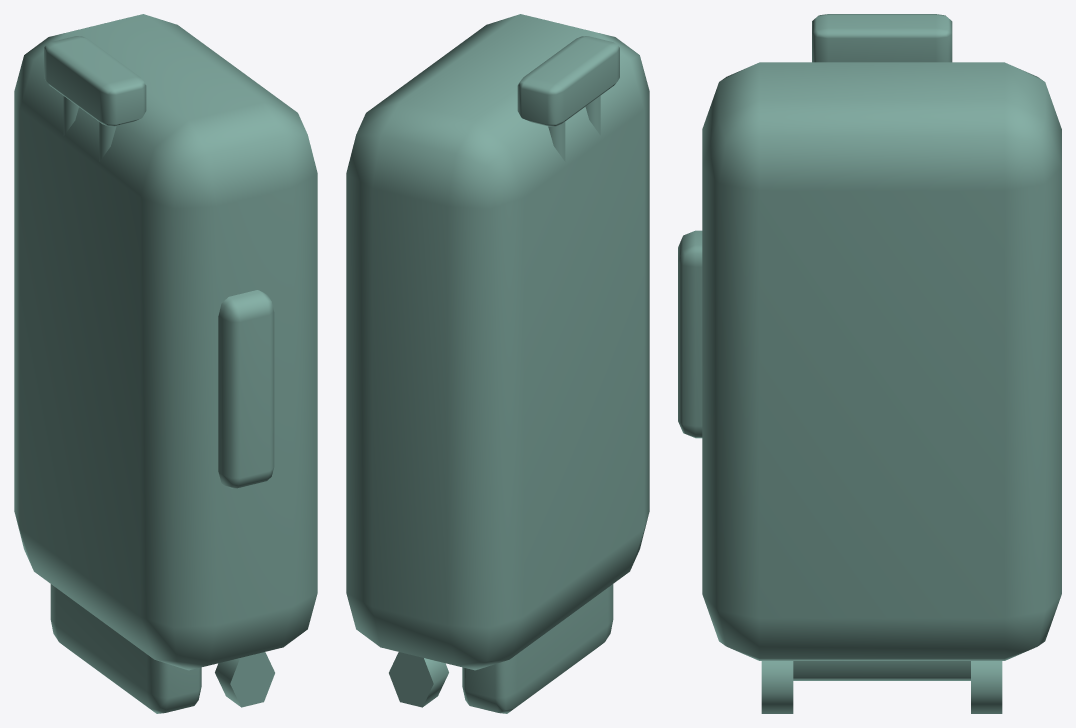
Rendered from ATLAS_PR_LUGGAGE_D.fbx.
3 renders of one model, left to right at view 1: azimuth 30°, elevation 25°; view 2: azimuth 150°, elevation 25°; view 3: azimuth 270°, elevation 25°, orthographic. The views are drawn at different scales.
Visible parts, largest first — view 1: PR_LUGGAGE_D; view 2: PR_LUGGAGE_D; view 3: PR_LUGGAGE_D.
Part boxes in pixels (bbox=[...]): PR_LUGGAGE_D: bbox=[14, 14, 317, 713]; PR_LUGGAGE_D: bbox=[346, 14, 649, 713]; PR_LUGGAGE_D: bbox=[678, 14, 1061, 713].
Bounding box in the file's own units: 33.35 × 111 × 60.83.
